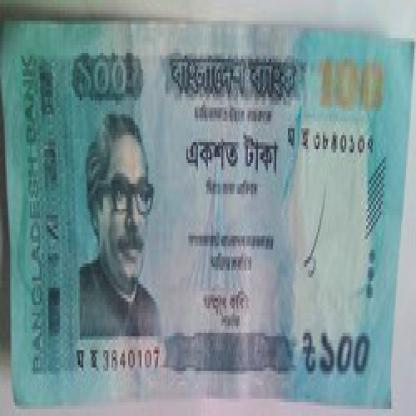one hundred taka: (301, 319, 384, 388), (313, 42, 379, 121), (70, 55, 140, 111)
